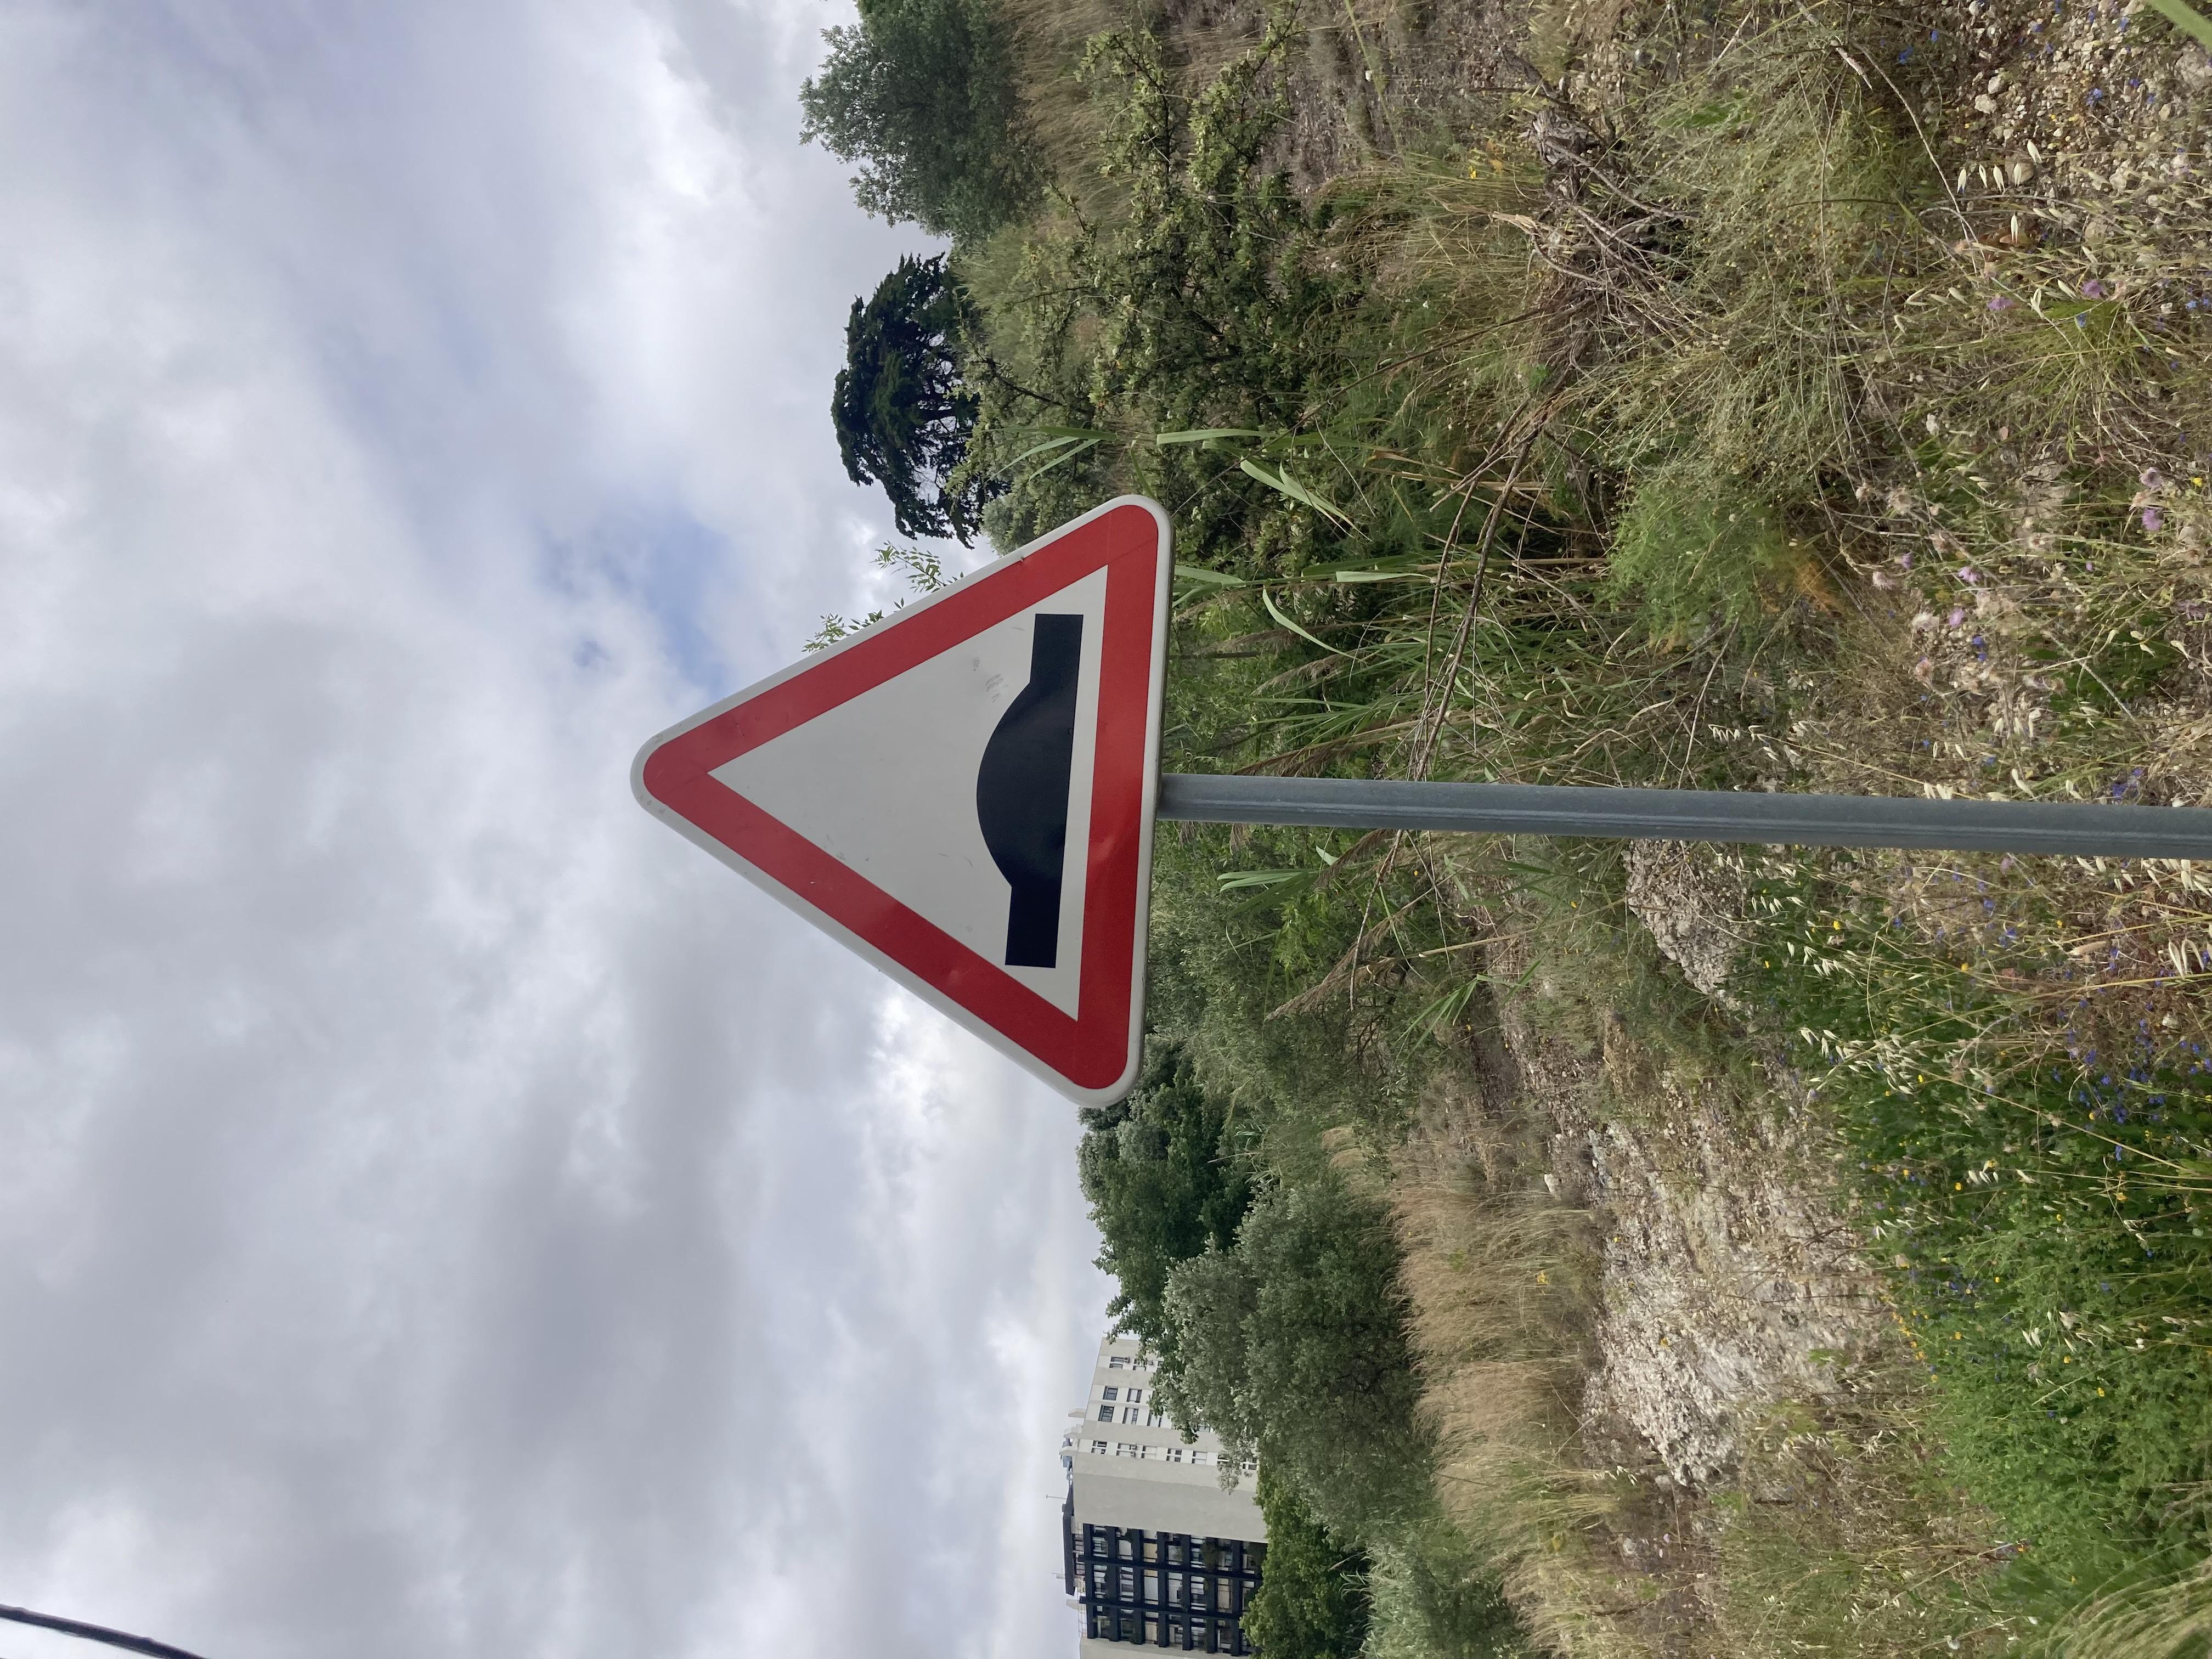parar: (580, 474, 1559, 1047)
